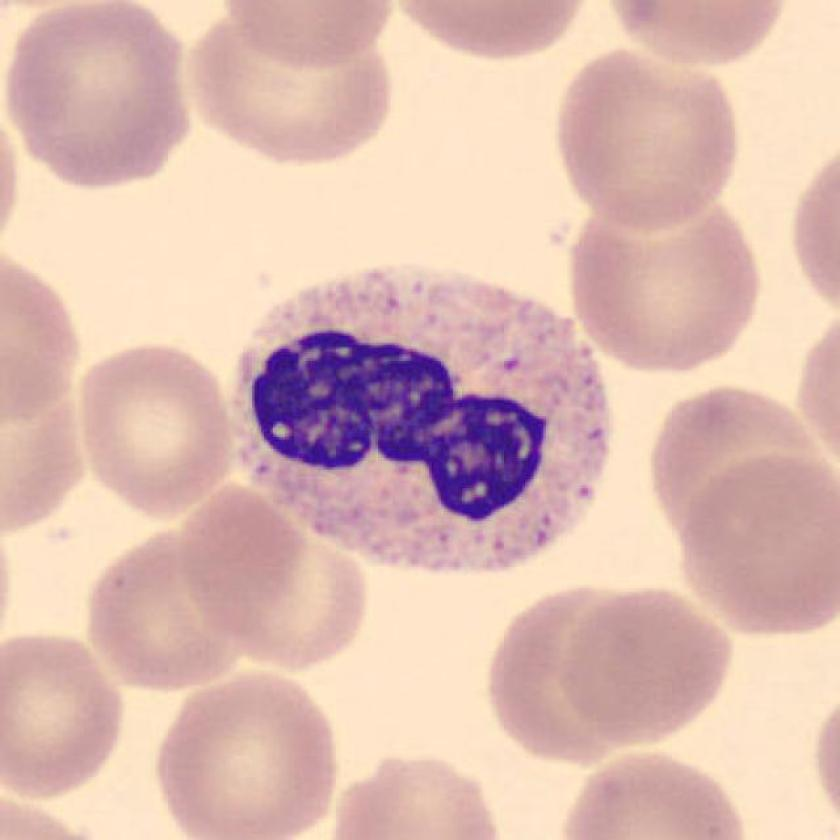neutrophil: (231, 268, 613, 575)
